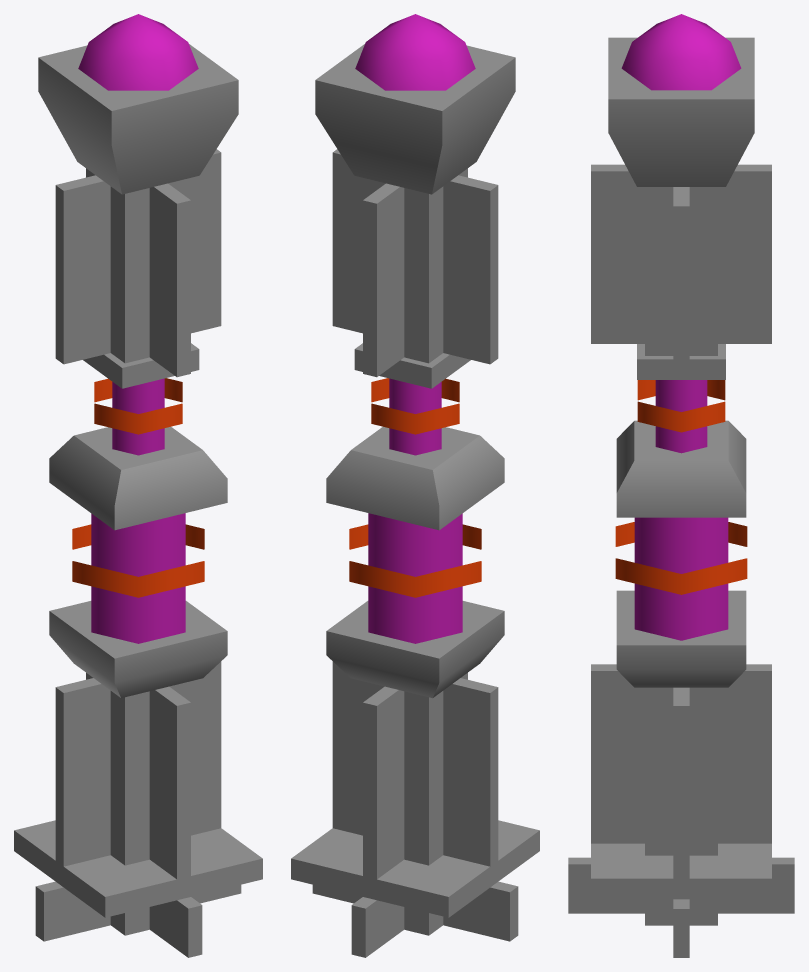
Rendered from pole_high.FBX.
The picture shows the model from 3 angles, left to right: view 1: azimuth 30°, elevation 25°; view 2: azimuth 150°, elevation 25°; view 3: azimuth 270°, elevation 25°; orthographic projection.
Parts seen in each view (by area): view 1: pole_high; view 2: pole_high; view 3: pole_high.
Boxes of the visible parts, left/top/right/bottom form: pole_high: left=14, top=14, right=262, bottom=957; pole_high: left=291, top=14, right=539, bottom=957; pole_high: left=568, top=14, right=794, bottom=957.
Bounding box in the file's own units: 2095 × 9141 × 2095.
